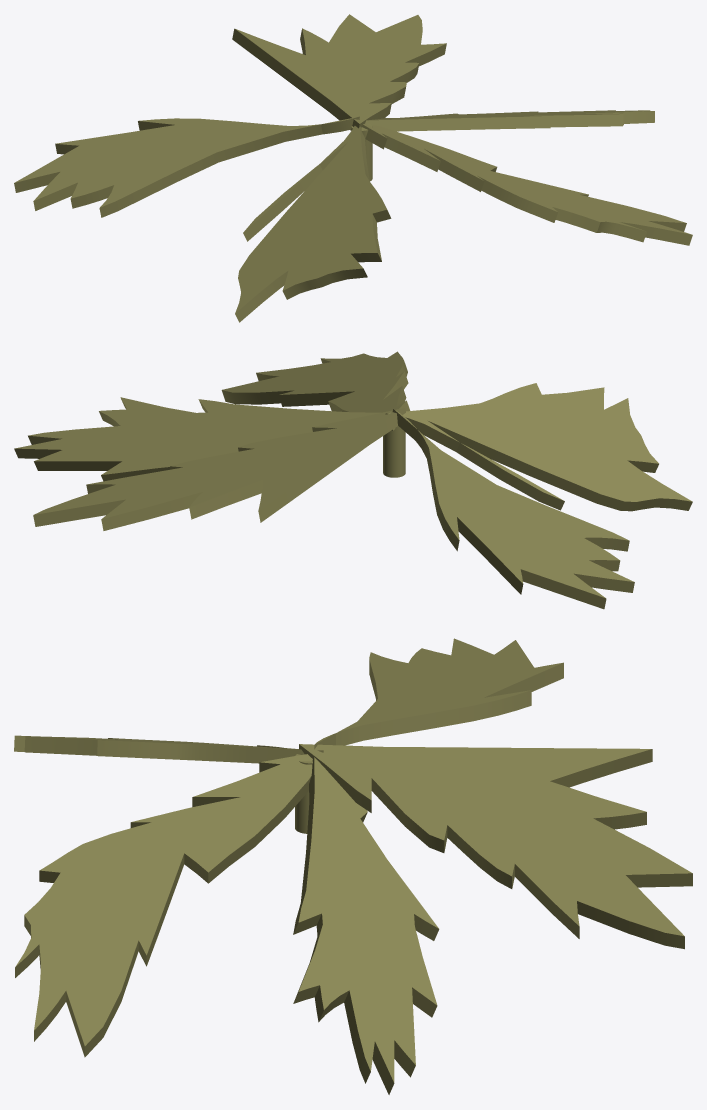
The model's file is deadplant.fbx.
3 views of the same model, one above another, from view 1: azimuth 30°, elevation 25°; view 2: azimuth 150°, elevation 25°; view 3: azimuth 270°, elevation 25° (orthographic). The views are drawn at different scales.
Visible parts, largest first — view 1: root (×5); view 2: root (×6); view 3: root (×5).
Boxes of the visible parts, x1=… form: root (×5): x1=14, y1=14, x2=692, y2=322; root (×6): x1=14, y1=351, x2=692, y2=609; root (×5): x1=14, y1=638, x2=692, y2=1094.
Bounding box in the file's own units: 0.337 × 0.0617 × 0.2457.
